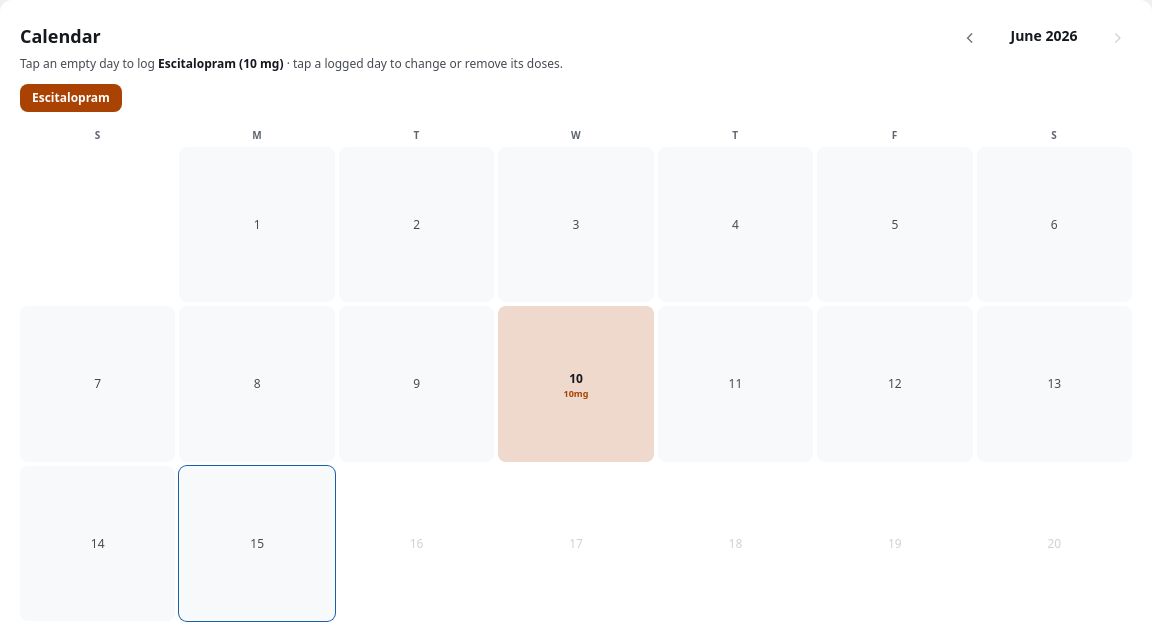
Test: MedicationCalendar › closes the dialog via the Done button without mutating anything
Click the button with aria-label "View 1 intake of Escitalopram on Jun 10" at (576, 384), box [498,306,654,462]
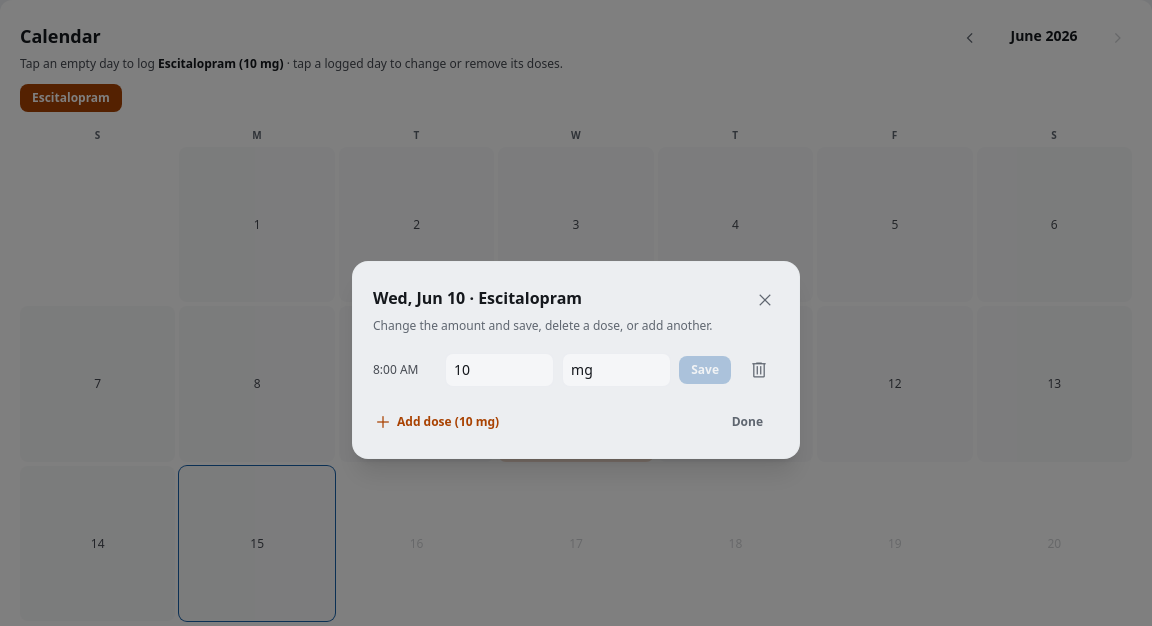
Click the button "Done" at (747, 422), box [716,406,779,438]
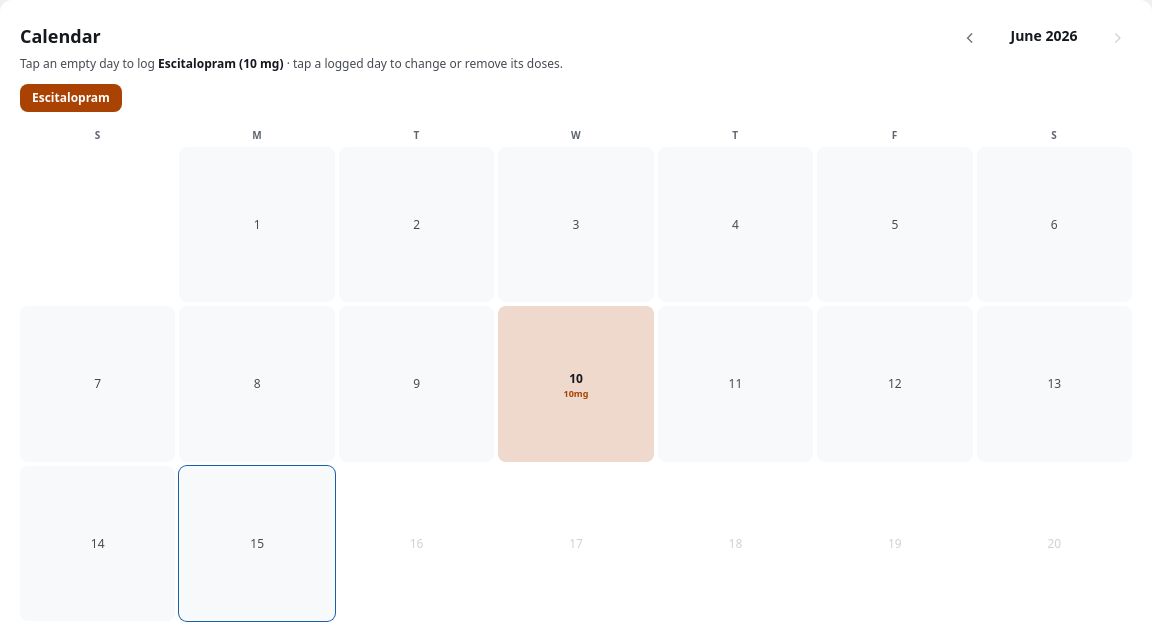
Check: the dialog is gone
